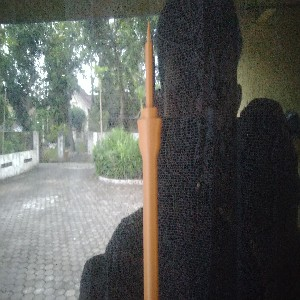solder: (136, 19, 163, 300)
